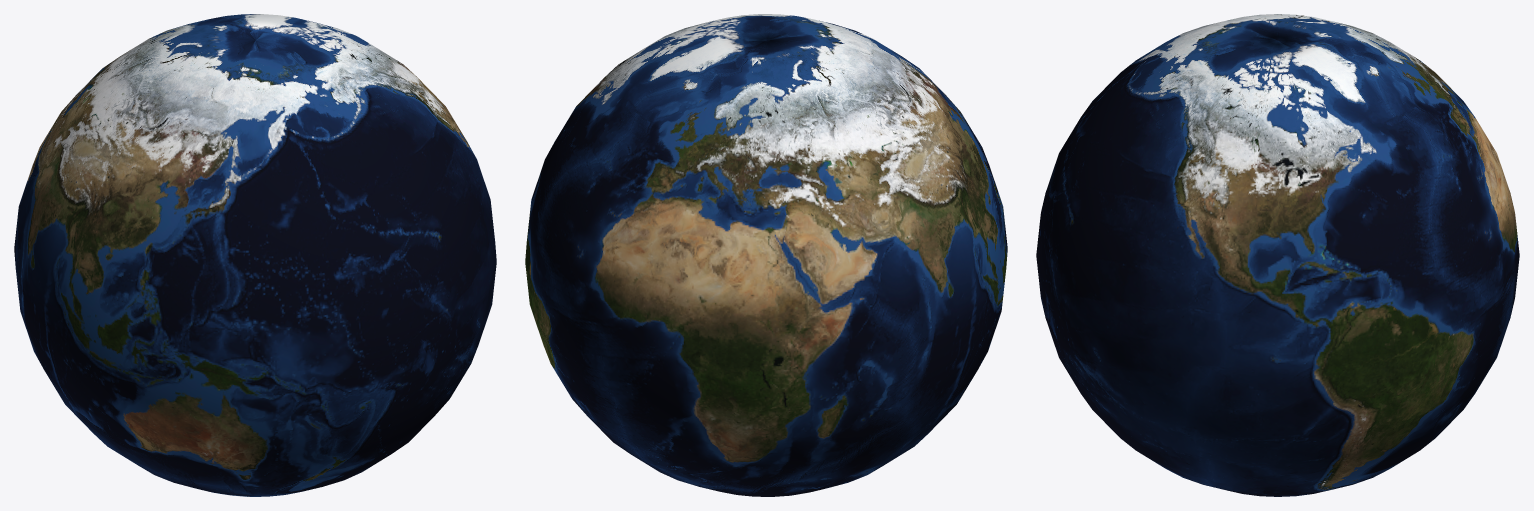
Rendered from earth.glb.
The picture shows the model from 3 angles, left to right: view 1: azimuth 30°, elevation 25°; view 2: azimuth 150°, elevation 25°; view 3: azimuth 270°, elevation 25°; orthographic projection.
Visible parts, largest first — view 1: Earth; view 2: Earth; view 3: Earth.
Boxes of the visible parts, <box> form: Earth: <box>14,14,496,496</box>; Earth: <box>525,14,1007,496</box>; Earth: <box>1036,14,1519,496</box>.
Bounding box in the file's own units: 2 × 1.96 × 2.
Materials: 1 (1 with a texture image).
